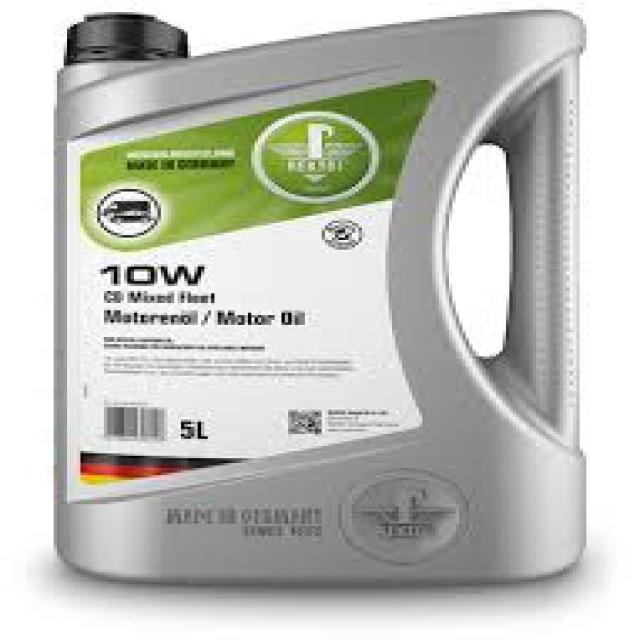motor_oil: (49, 7, 600, 596)
